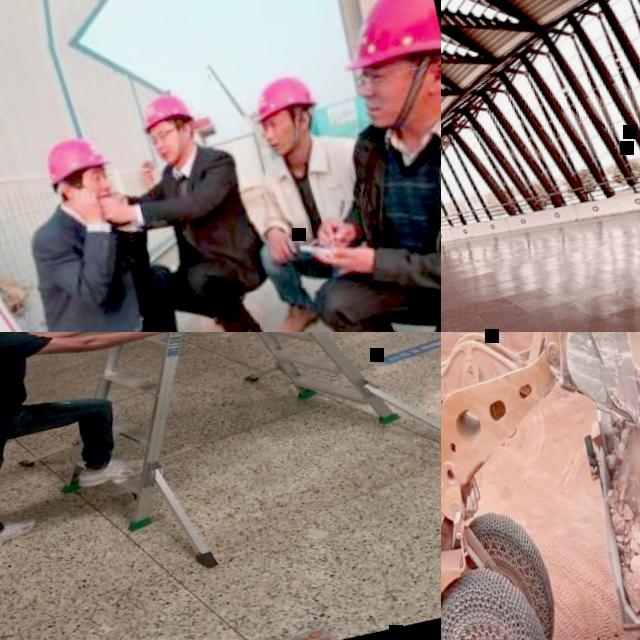Hardhat: (324, 0, 441, 75), (241, 69, 322, 130), (35, 132, 112, 188), (132, 89, 198, 138)
NO-Mask: (356, 76, 435, 129), (265, 125, 304, 152), (78, 181, 112, 208), (154, 138, 186, 165)
NO-Safety Vest: (345, 109, 441, 284), (25, 201, 144, 329), (252, 135, 375, 246), (147, 152, 248, 260)
Person: (248, 0, 441, 332), (79, 78, 286, 332), (0, 332, 228, 554), (220, 59, 395, 332), (3, 125, 185, 332)
Safety Vest: (0, 332, 39, 442)
vehicle: (441, 332, 640, 640), (566, 332, 640, 640)
